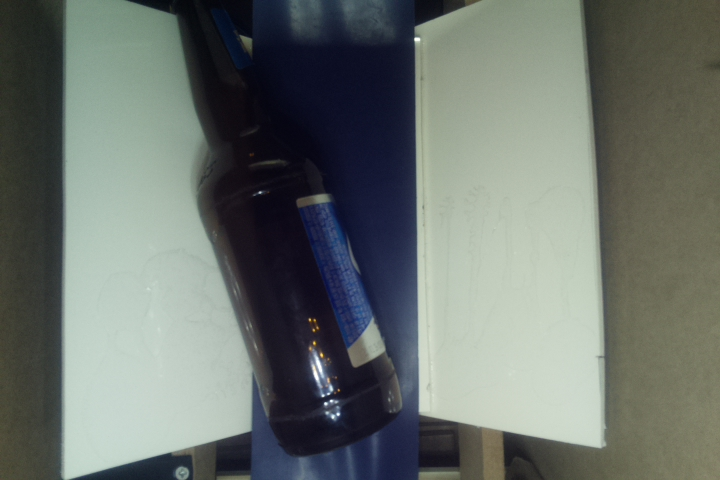makju: (168, 1, 408, 458)
